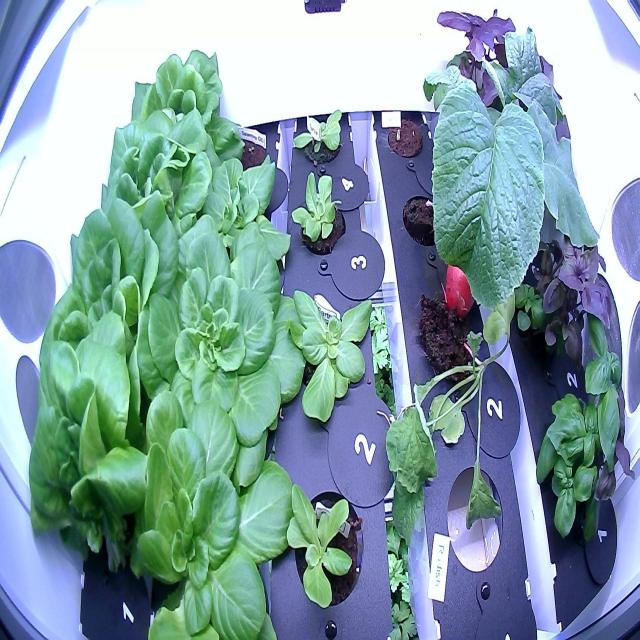Ready: (11, 302, 170, 580), (18, 181, 187, 416), (84, 106, 231, 287), (118, 31, 244, 171)
empty_pod: (442, 458, 512, 582)
germination: (226, 118, 270, 184)
young: (122, 388, 296, 639), (133, 222, 307, 468), (176, 151, 293, 288), (278, 279, 378, 434), (280, 480, 369, 622), (288, 164, 350, 266), (290, 101, 351, 179)
